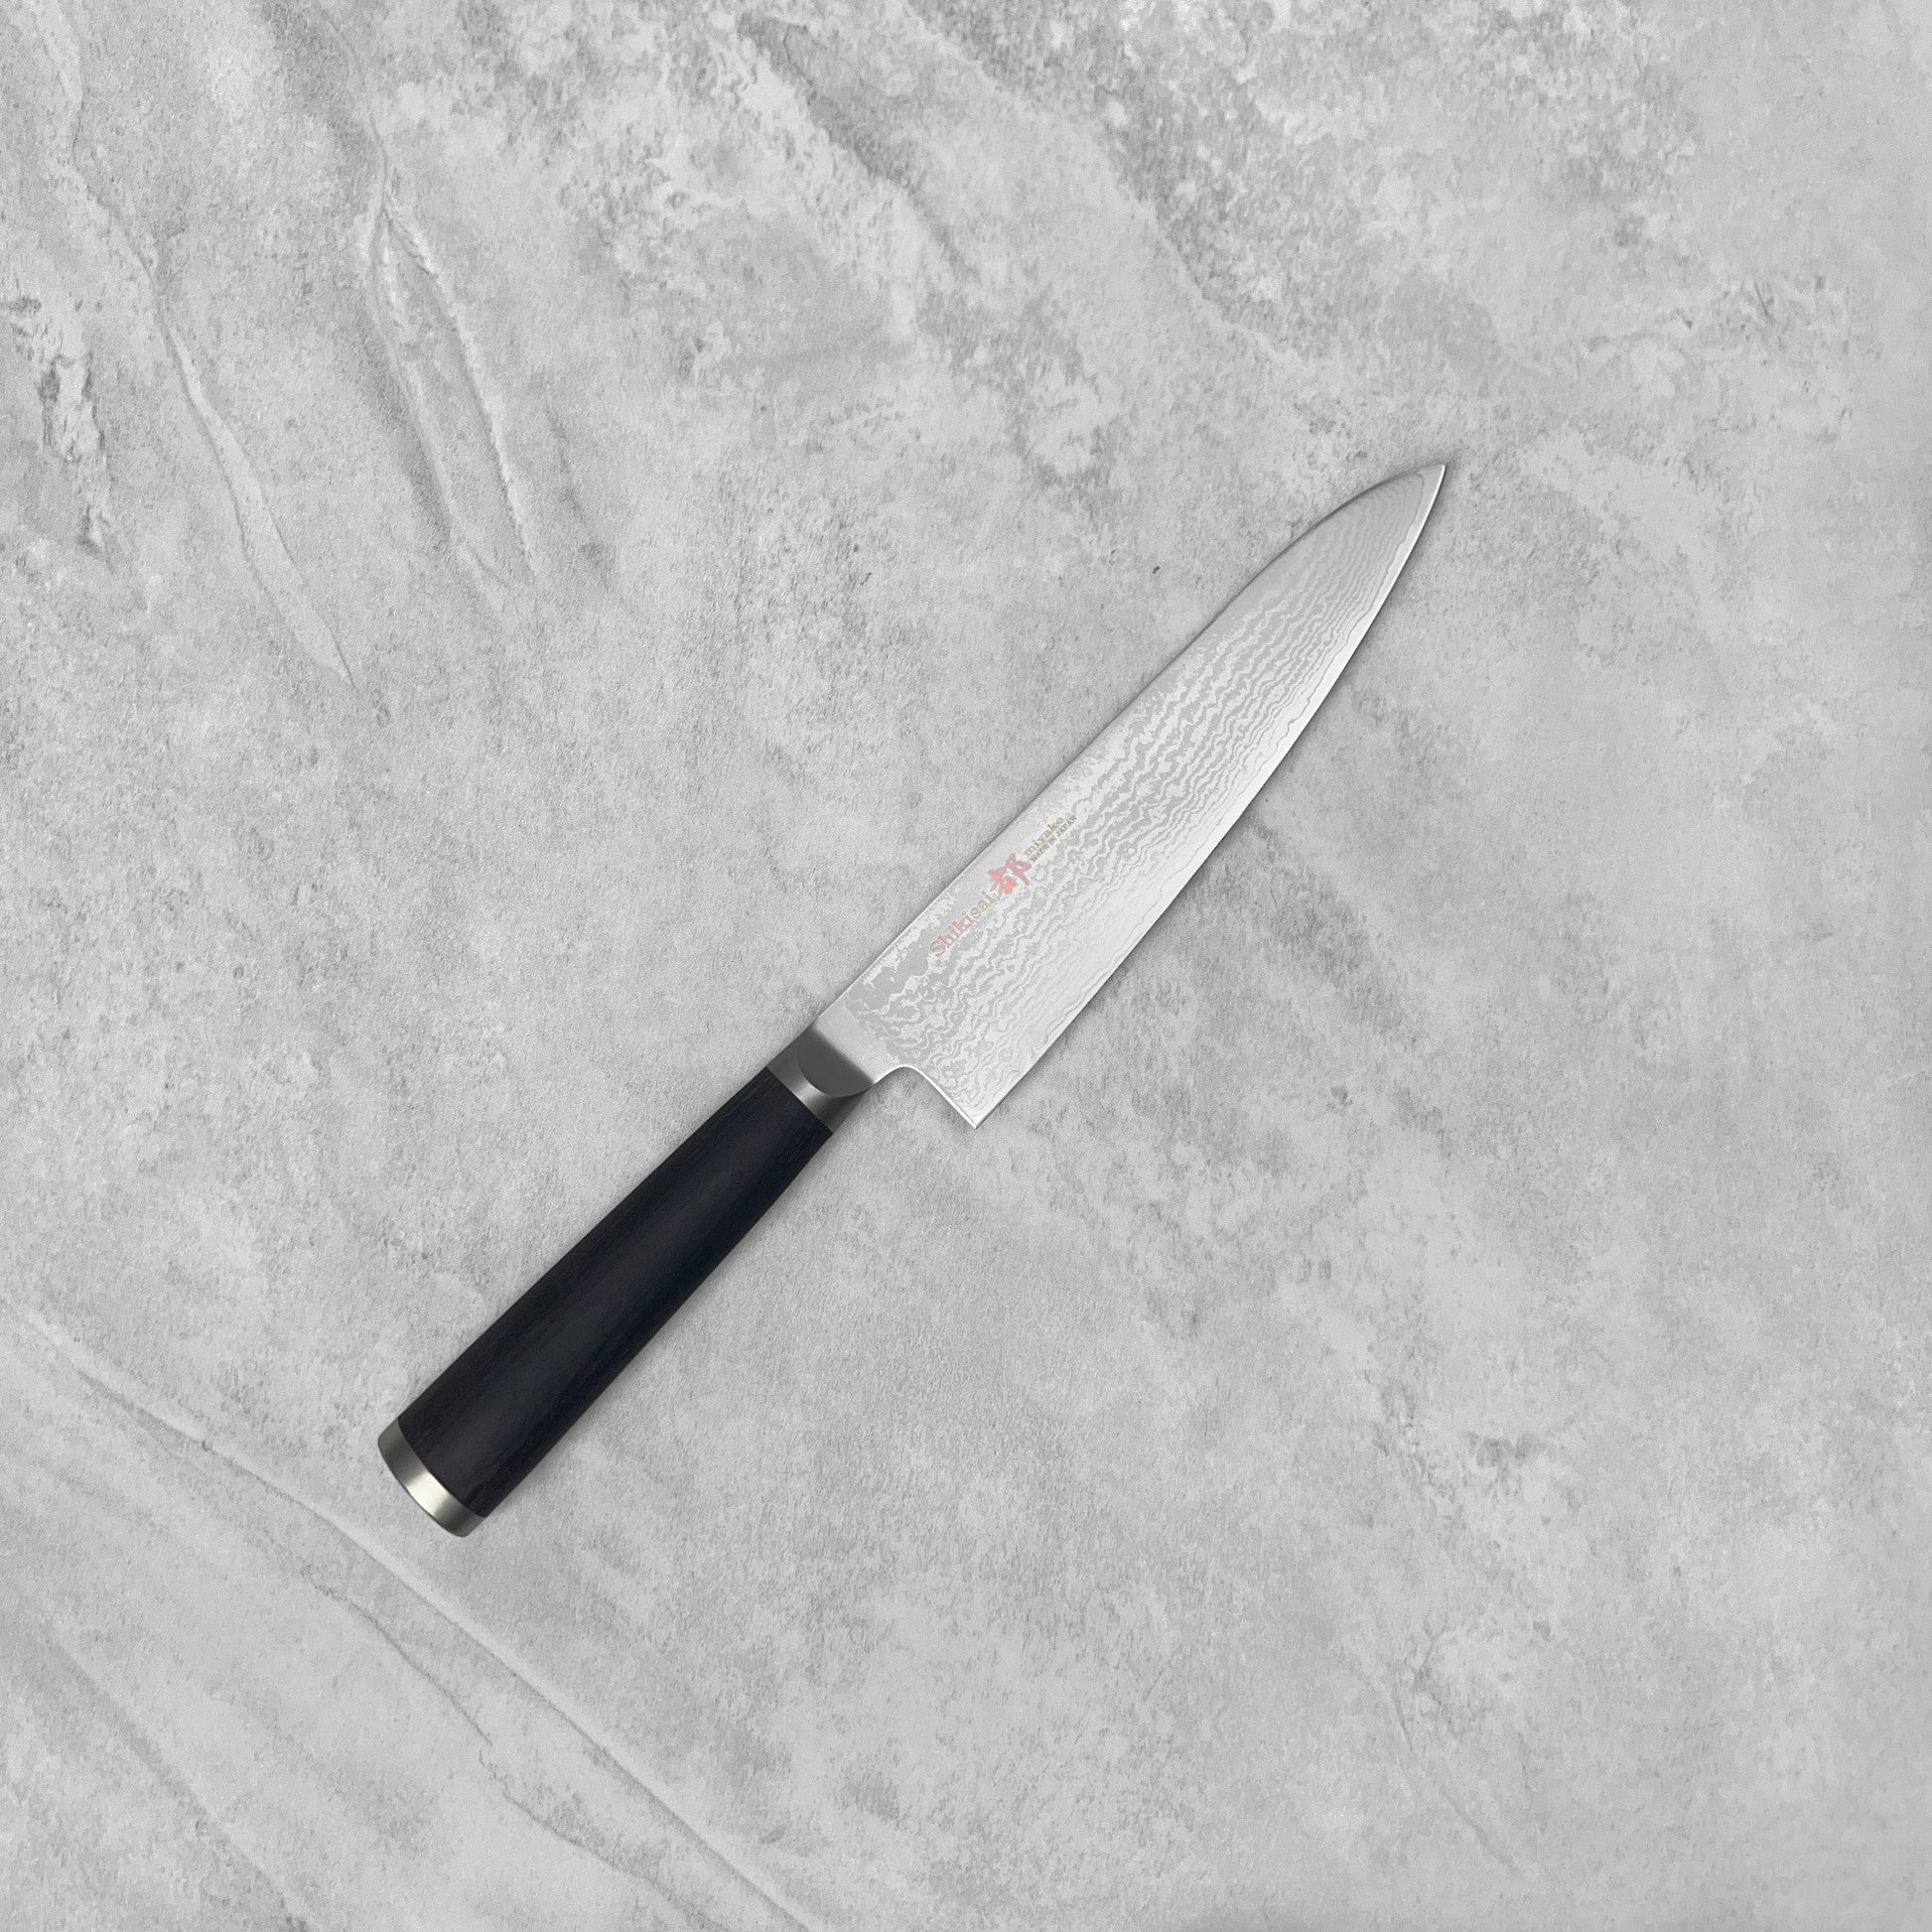knife: (356, 393, 1479, 1545)
